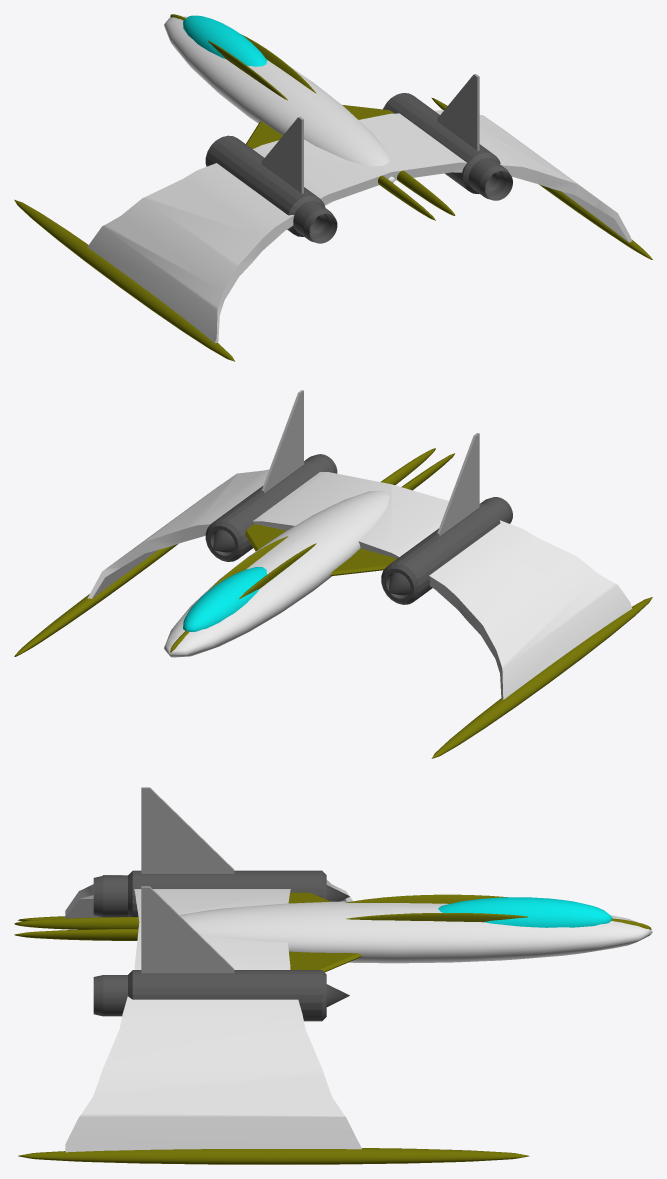
Rendered from Enemy1.fbx.
3 views of the same model, one above another, from view 1: azimuth 30°, elevation 25°; view 2: azimuth 150°, elevation 25°; view 3: azimuth 270°, elevation 25° (orthographic). The views are drawn at different scales.
Visible parts, largest first — view 1: pCone6; view 2: pCone6; view 3: pCone6.
Boxes of the visible parts, x1=… form: pCone6: x1=14, y1=14, x2=652, y2=361; pCone6: x1=14, y1=390, x2=652, y2=758; pCone6: x1=14, y1=787, x2=652, y2=1164.
Size of the model in its own units: 22.16 by 8.78 by 24.51.
